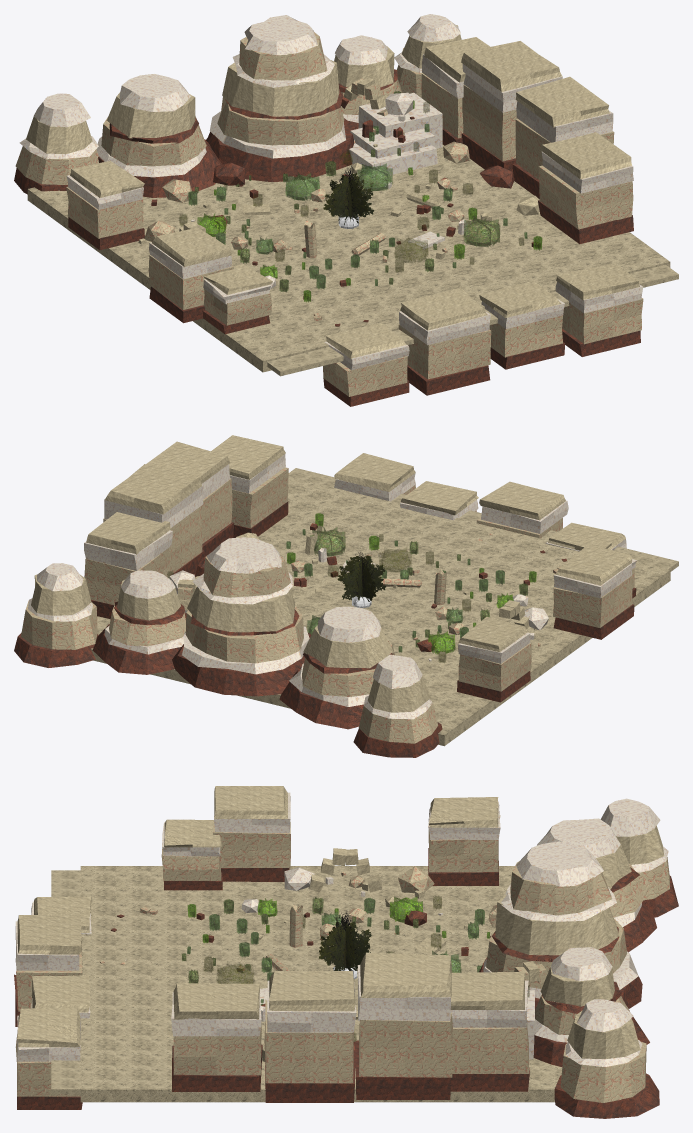
The model's file is rock_biome.glb.
3 views of the same model, one above another, from view 1: azimuth 30°, elevation 25°; view 2: azimuth 150°, elevation 25°; view 3: azimuth 270°, elevation 25° (orthographic). The views are drawn at different scales.
Visible parts, largest first — view 1: Ground_Main, Butte_Main_L4, Cliff_E_3_L1, Butte_Main_L0, Butte_Main_L2, Cliff_E_1_L3, Cliff_S_1_L1, Cliff_E_2_L3, Cliff_E_1_L1, Cliff_E_3_L3, Butte_West_L2, Cliff_S_3_L1 (+64 smaller); view 2: Ground_Main, Butte_Main_L2, Butte_Main_L4, Cliff_E_1_L3, Butte_Main_L0, Cliff_W_1_L1, Butte_FarEast_L1, Butte_West_L4, Butte_Main_L6, Cliff_E_0_L3, Butte_Main_L7, Cliff_W_0_L1 (+50 smaller); view 3: Ground_Main, Cliff_E_1_L1, Cliff_E_2_L1, Butte_Main_L4, Cliff_E_1_L3, Cliff_E_0_L1, Cliff_E_3_L1, Cliff_E_2_L3, Butte_FarEast_L1, Cliff_E_3_L3, Butte_Main_L6, Butte_Main_L7 (+58 smaller).
Part boxes in pixels (bbox=[...]): Ground_Main: bbox=[27, 145, 670, 372]; Butte_Main_L4: bbox=[222, 60, 339, 116]; Cliff_E_3_L1: bbox=[538, 165, 633, 229]; Butte_Main_L0: bbox=[206, 118, 355, 181]; Butte_Main_L2: bbox=[217, 97, 344, 145]; Cliff_E_1_L3: bbox=[461, 41, 562, 91]; Cliff_S_1_L1: bbox=[398, 324, 491, 379]; Cliff_E_2_L3: bbox=[515, 76, 609, 127]; Cliff_E_1_L1: bbox=[462, 85, 517, 161]; Cliff_E_3_L3: bbox=[542, 132, 631, 179]; Butte_West_L2: bbox=[101, 116, 206, 166]; Cliff_S_3_L1: bbox=[562, 298, 643, 344]; Ground_Main: bbox=[91, 476, 670, 746]; Butte_Main_L2: bbox=[185, 605, 303, 663]; Butte_Main_L4: bbox=[187, 587, 294, 632]; Cliff_E_1_L3: bbox=[104, 464, 201, 514]; Butte_Main_L0: bbox=[172, 633, 311, 696]; Cliff_W_1_L1: bbox=[553, 576, 632, 627]; Butte_FarEast_L1: bbox=[21, 600, 97, 649]; Butte_West_L4: bbox=[303, 625, 393, 668]; Butte_Main_L6: bbox=[203, 555, 290, 597]; Cliff_E_0_L3: bbox=[86, 512, 170, 554]; Butte_Main_L7: bbox=[206, 537, 281, 573]; Cliff_W_0_L1: bbox=[458, 642, 531, 691]; Ground_Main: bbox=[80, 866, 562, 1102]; Cliff_E_1_L1: bbox=[359, 1012, 452, 1077]; Cliff_E_2_L1: bbox=[264, 1000, 353, 1083]; Butte_Main_L4: bbox=[495, 894, 619, 955]; Cliff_E_1_L3: bbox=[360, 952, 451, 997]; Cliff_E_0_L1: bbox=[452, 1020, 528, 1073]; Cliff_E_3_L1: bbox=[173, 1023, 261, 1075]; Cliff_E_2_L3: bbox=[269, 970, 355, 1011]; Butte_FarEast_L1: bbox=[560, 1042, 646, 1102]; Cliff_E_3_L3: bbox=[173, 983, 259, 1019]; Butte_Main_L6: bbox=[510, 861, 612, 915]; Butte_Main_L7: bbox=[516, 841, 603, 886].
Size of the model in its own units: 51.06 by 17.63 by 56.48.
26 materials, 26 textured.
